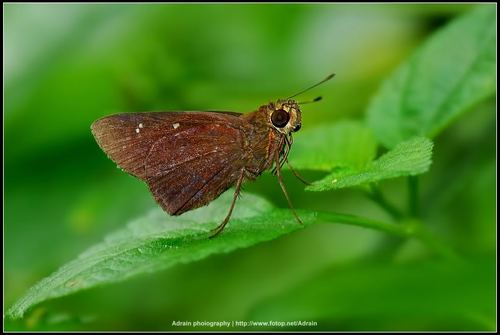Hesperiidae: (89, 73, 338, 236)
